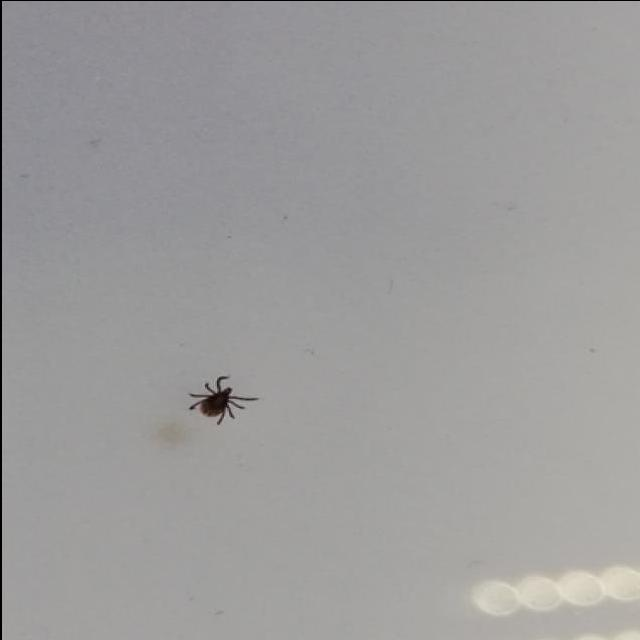Ixodes Ricinus-M: (184, 374, 258, 425)
